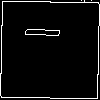I: (25, 25, 69, 40)
